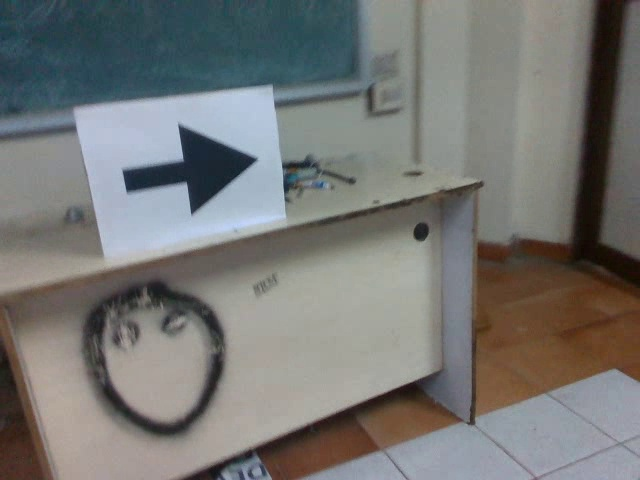Right: (118, 116, 262, 220)
